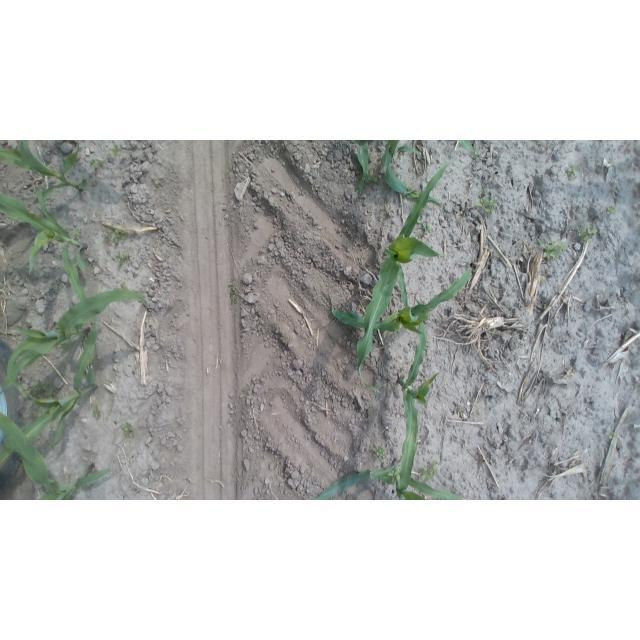Maize: (353, 161, 455, 394), (0, 287, 152, 393), (0, 320, 100, 475), (322, 255, 478, 337), (0, 181, 90, 307), (1, 410, 112, 500), (392, 316, 443, 496), (303, 458, 478, 500), (348, 141, 445, 210), (1, 141, 90, 202), (459, 141, 478, 164)
Weeds: (537, 239, 569, 262), (28, 381, 60, 398), (102, 228, 130, 246), (419, 460, 442, 481), (575, 222, 598, 242), (227, 284, 242, 309), (371, 442, 387, 463), (475, 197, 497, 212), (238, 384, 253, 404), (121, 423, 135, 441), (566, 162, 580, 180), (88, 402, 100, 421), (90, 159, 105, 173), (417, 220, 433, 233), (368, 168, 380, 185), (115, 253, 131, 264), (109, 144, 123, 156), (606, 430, 618, 441), (73, 229, 83, 239), (605, 206, 616, 215), (119, 282, 130, 290)
